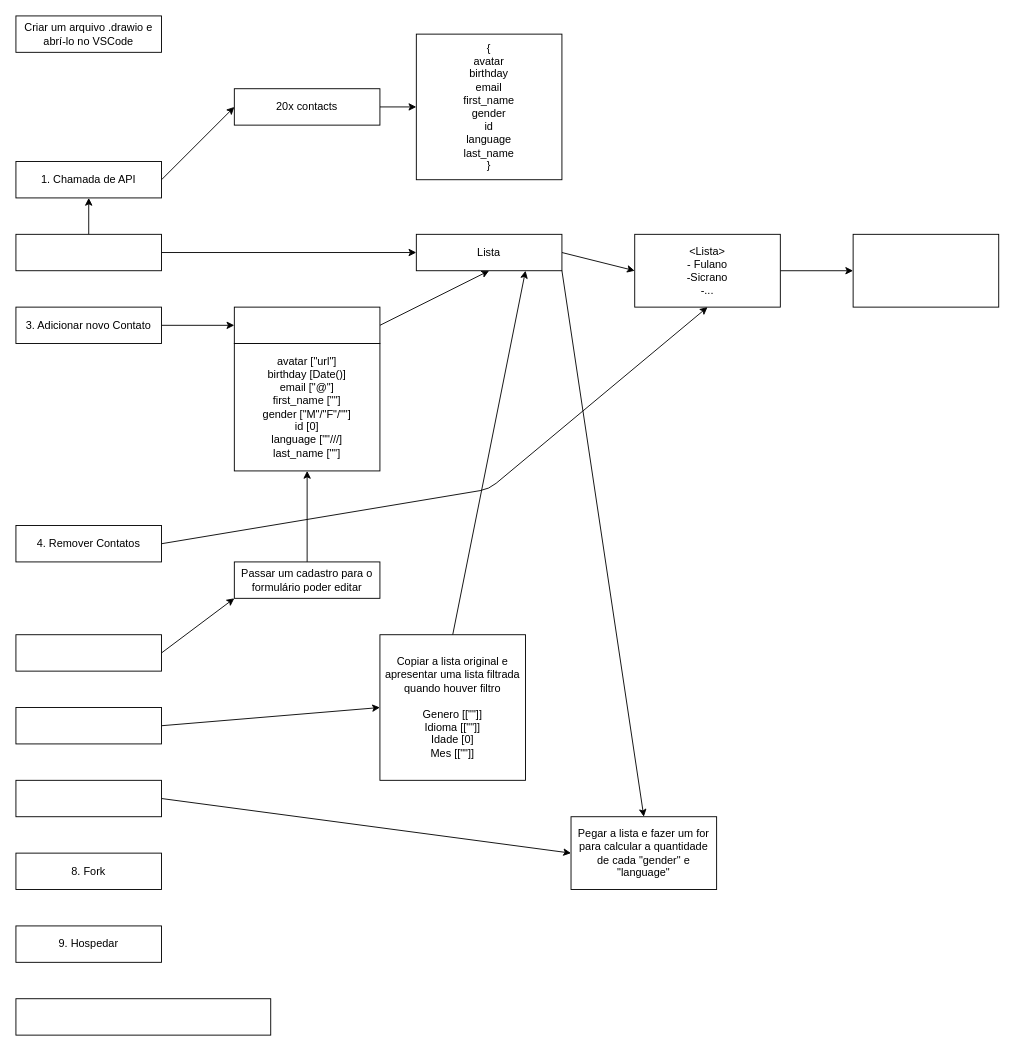
Image size: 1015x1051. Some labels were removed from this diagram. The centre of each missing label's shape, as x and y in pixels:
"10. PR - Nome, E-mail e URL da hospedagem PR = Pull Request" goes at (x=143, y=1016).
"2. Listagem de Contatos" goes at (x=88, y=252).
"5. Editar Contatos" goes at (x=88, y=652).
"6. Filtros" goes at (x=88, y=725).
"7. Resumo" goes at (x=88, y=798).
"<Lista> - Fulano X -Sicrano X -... X" goes at (x=925, y=270).
"Formulário" goes at (x=306, y=325).
